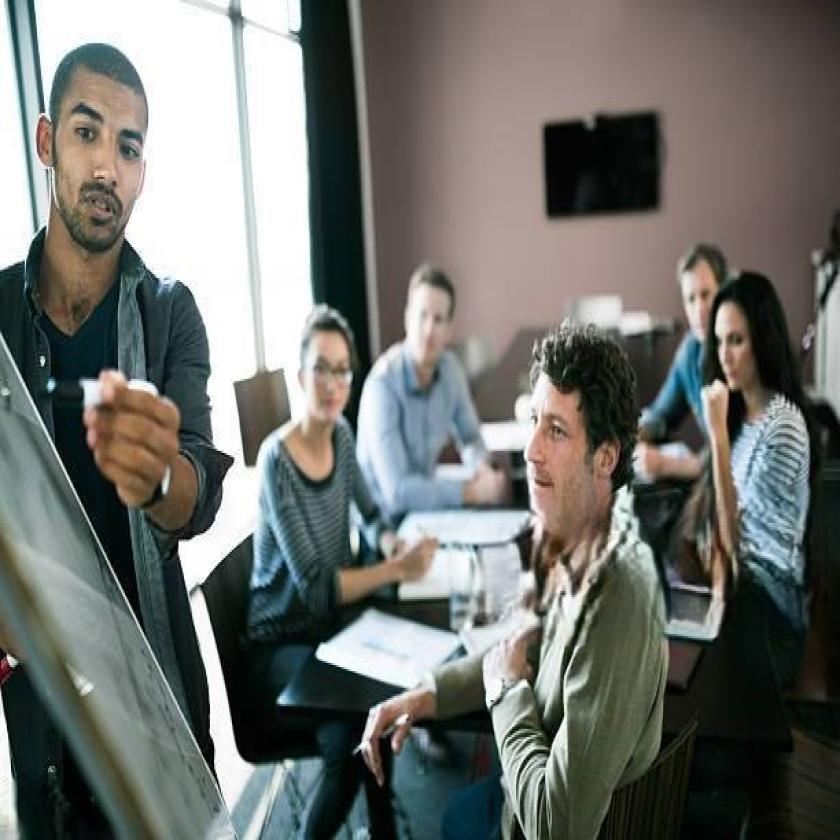Sin_casco: (523, 313, 644, 557), (42, 32, 156, 268), (712, 266, 791, 418), (294, 299, 360, 447), (674, 235, 732, 355), (407, 259, 459, 389)
